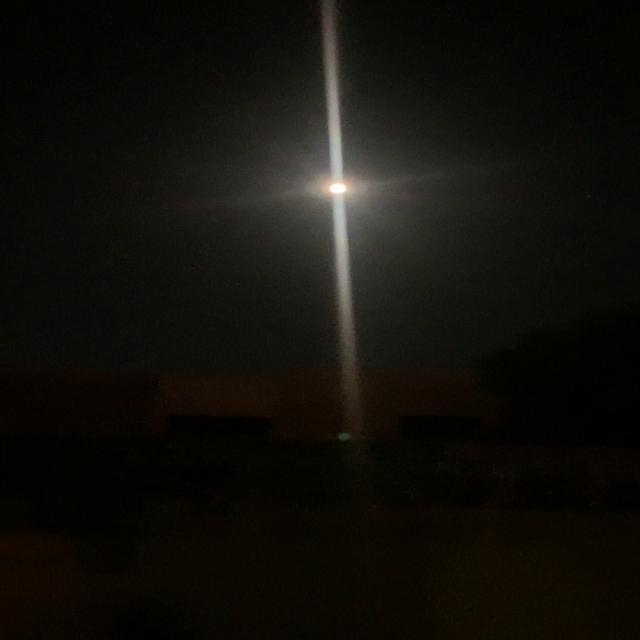moon: (303, 172, 365, 205)
